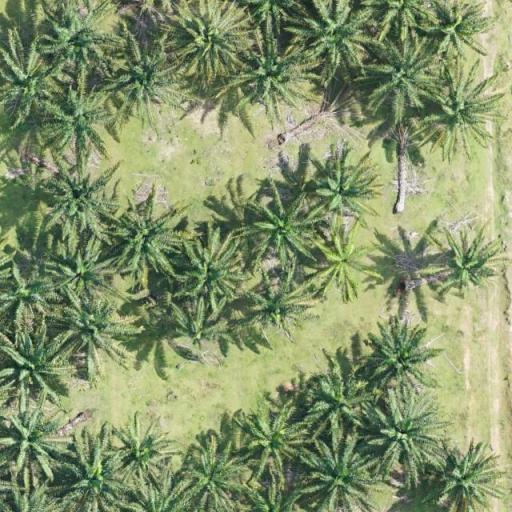Ganoderma: (321, 237, 370, 281), (445, 240, 492, 285)
